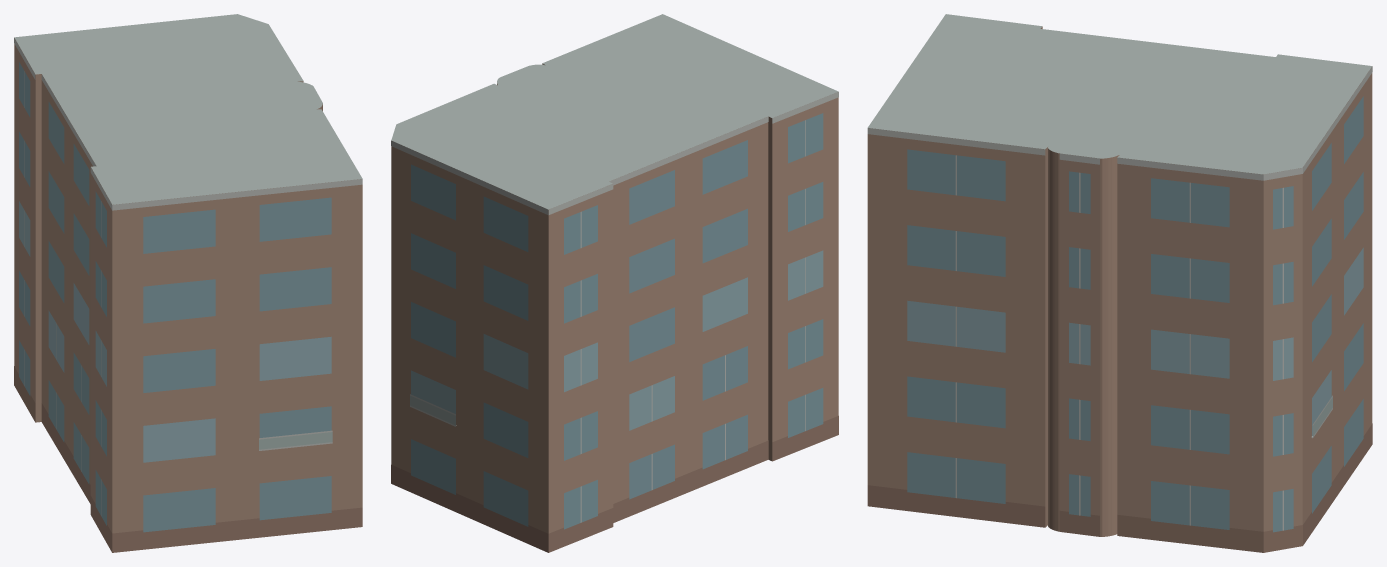
Rendered from survey-upis-32740923.glb.
3 renders of one model, left to right at view 1: azimuth 30°, elevation 25°; view 2: azimuth 150°, elevation 25°; view 3: azimuth 270°, elevation 25°, orthographic. The views are drawn at different scales.
Visible parts, largest first — view 1: survey-upis-32740923.tmp; view 2: survey-upis-32740923.tmp; view 3: survey-upis-32740923.tmp.
Boxes of the visible parts, x1,y1,x2,y2 form: survey-upis-32740923.tmp: (14,14,362,552); survey-upis-32740923.tmp: (391,14,838,552); survey-upis-32740923.tmp: (867,14,1372,552).
Bounding box in the file's own units: 13.38 × 14.7 × 17.79.
